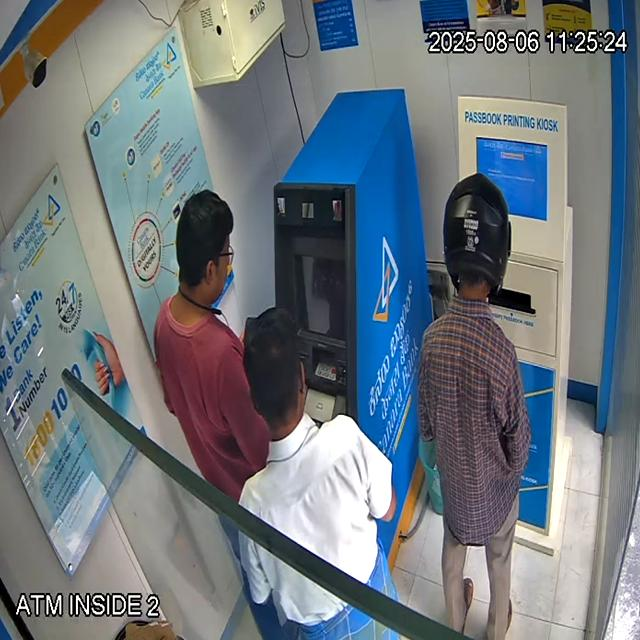helmet: (443, 172, 509, 301)
no_helmet: (243, 307, 305, 440), (177, 190, 234, 307)
